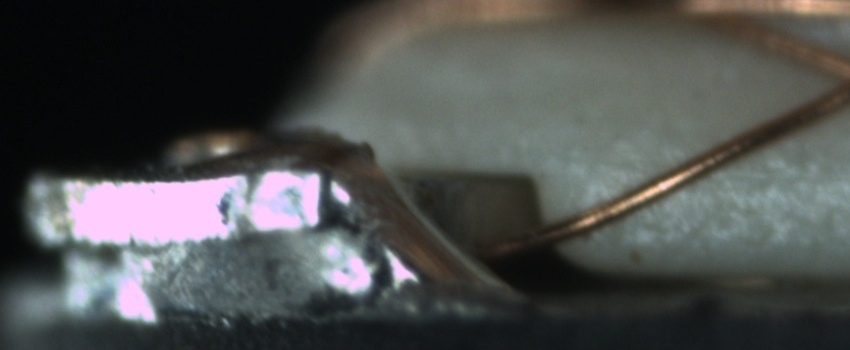DL: (573, 141, 849, 205)
